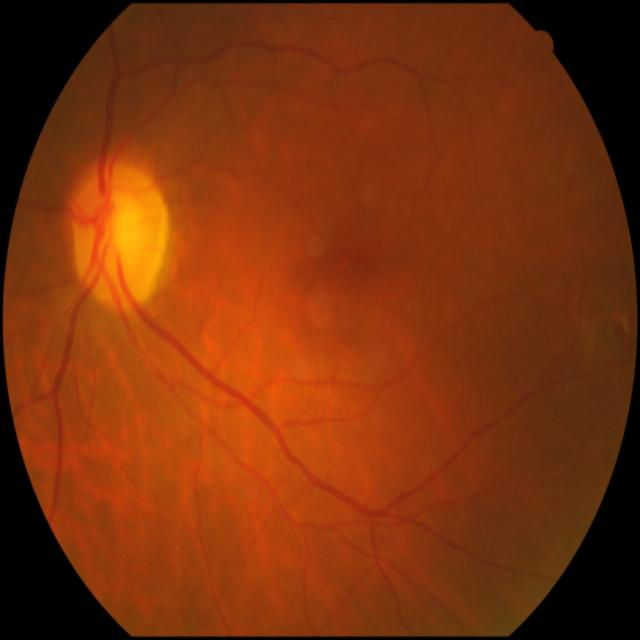OC: (110, 196, 144, 248)
OD: (71, 158, 172, 306)
